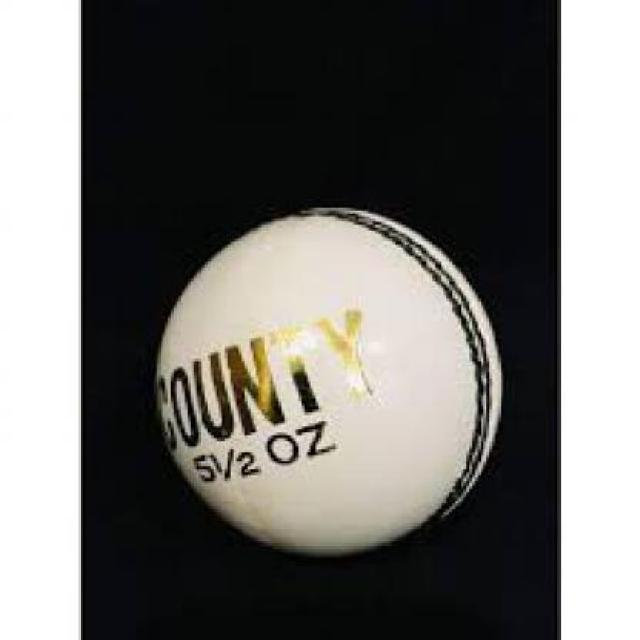ball: (117, 158, 534, 580)
